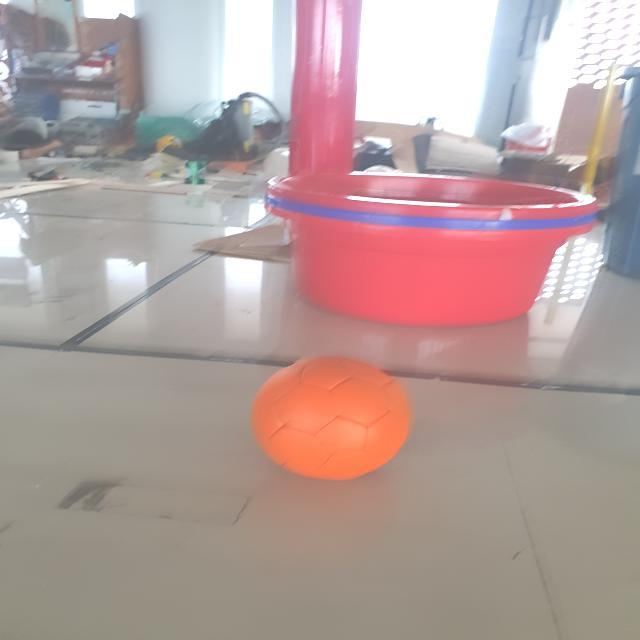bola: (242, 349, 412, 482)
